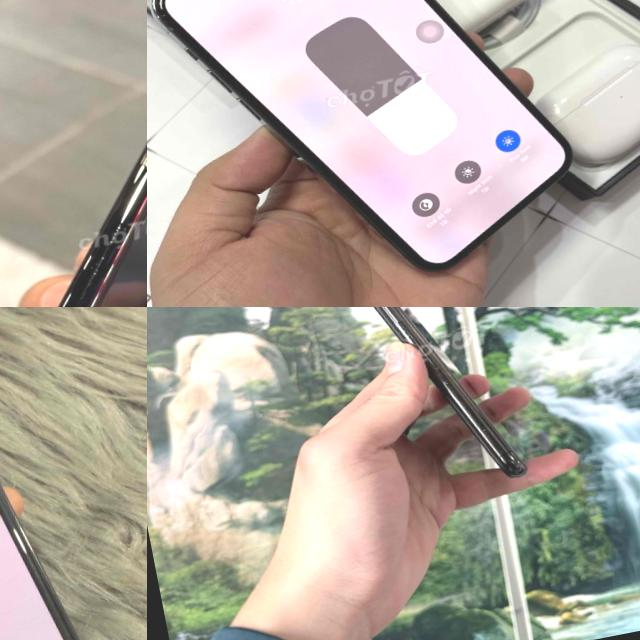gen_11: (0, 307, 123, 640), (0, 49, 147, 307)
gen_12_13: (147, 0, 592, 307)
gen_x_xs: (373, 307, 526, 477)
